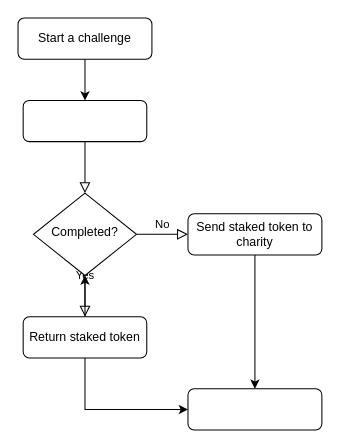
Image size: 340x448. Some labels were removed from this diagram. The shapes that lost their labels are listed below. From the top down, each one's box as (x1, y1, x2, y2) in pixels, then its label:
(22, 99, 147, 142): Staked tokens
(187, 388, 322, 430): Get some Fuls
